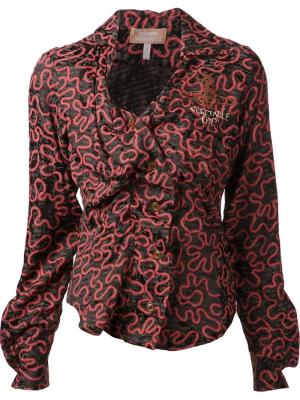S_business casual jacket: (1, 4, 300, 390)
